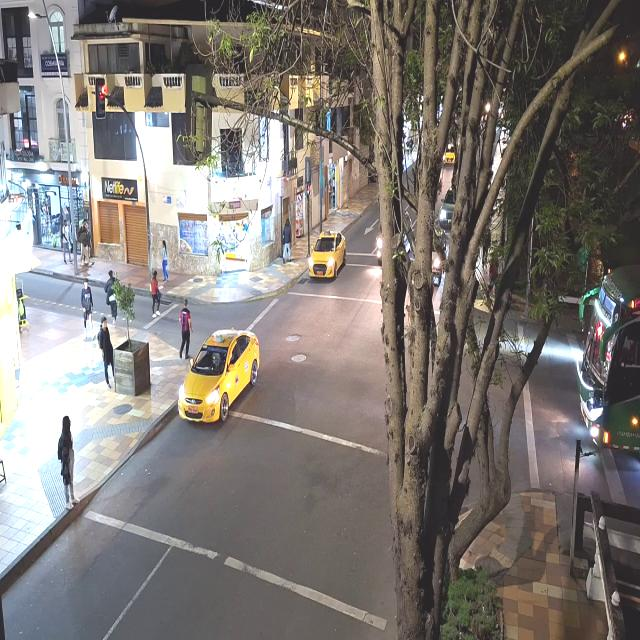BUS: (575, 267, 640, 451)
SED: (182, 330, 258, 421), (313, 234, 347, 280)
